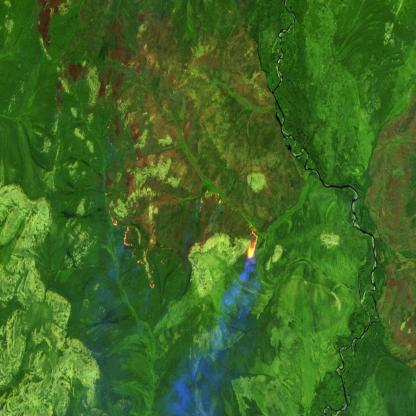fire: (194, 183, 260, 269), (104, 206, 160, 294)
